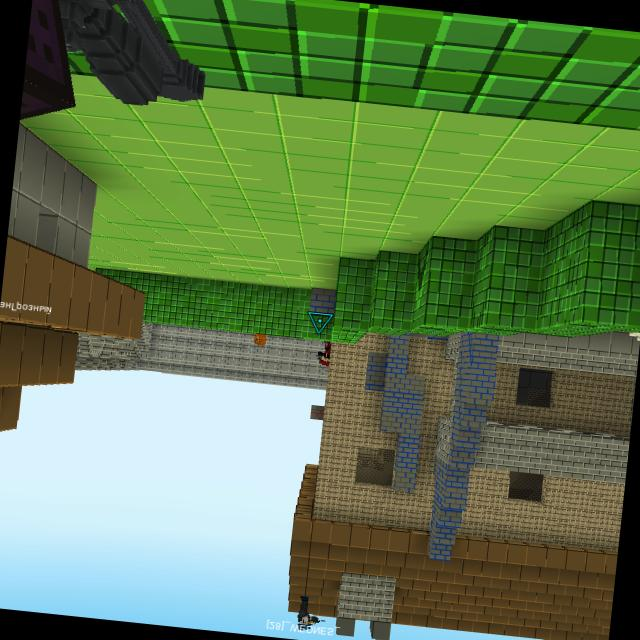enemy: (314, 340, 332, 367), (251, 332, 268, 348)
